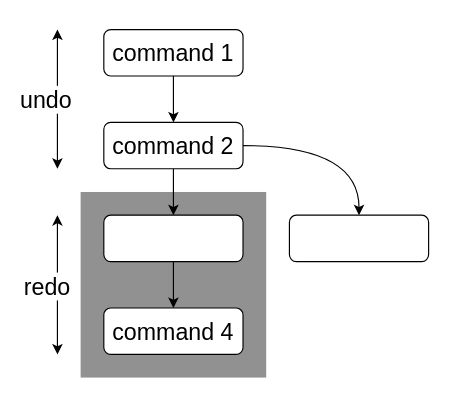
Image size: 449x398. Some labels were removed from this diagram. The shapes that lost their labels are listed below. From the top down, each one's box as (x1, y1, x2, y2) in pixels, then its label:
(103, 214, 243, 262): command 3
(288, 214, 429, 262): command 5
